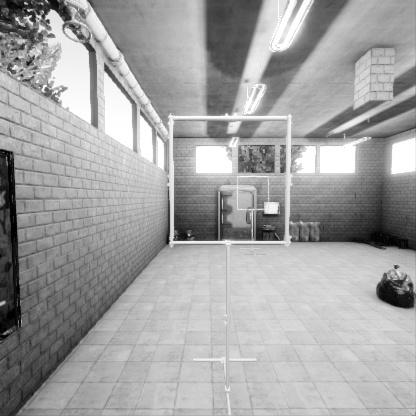gate: (171, 177, 297, 302), (236, 207, 271, 241)
